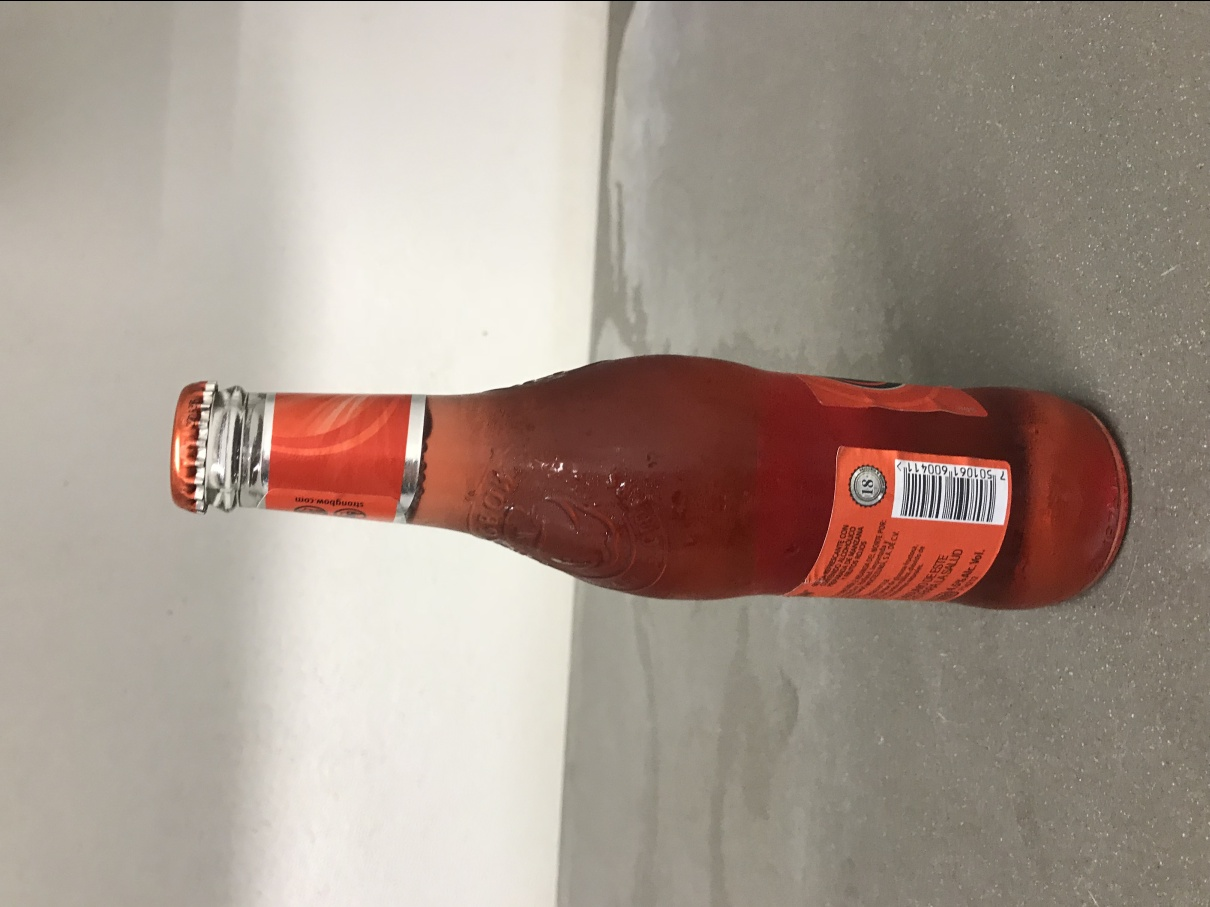strongbowR: (169, 352, 1131, 612)
